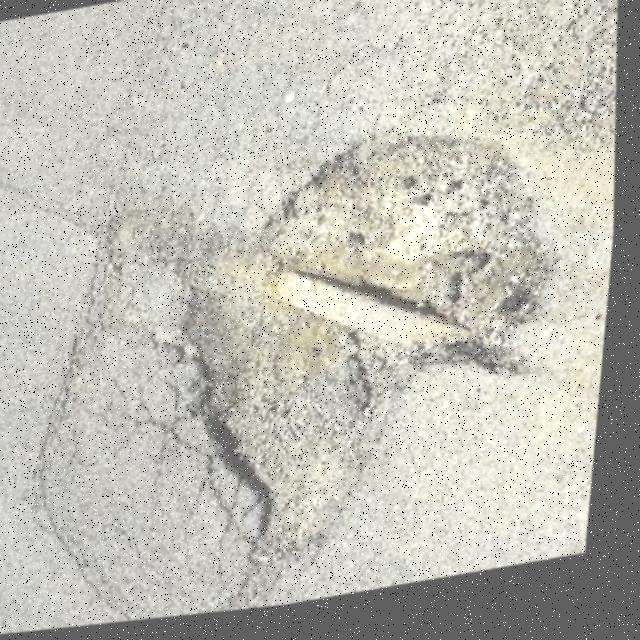pothole: (153, 111, 592, 588)
